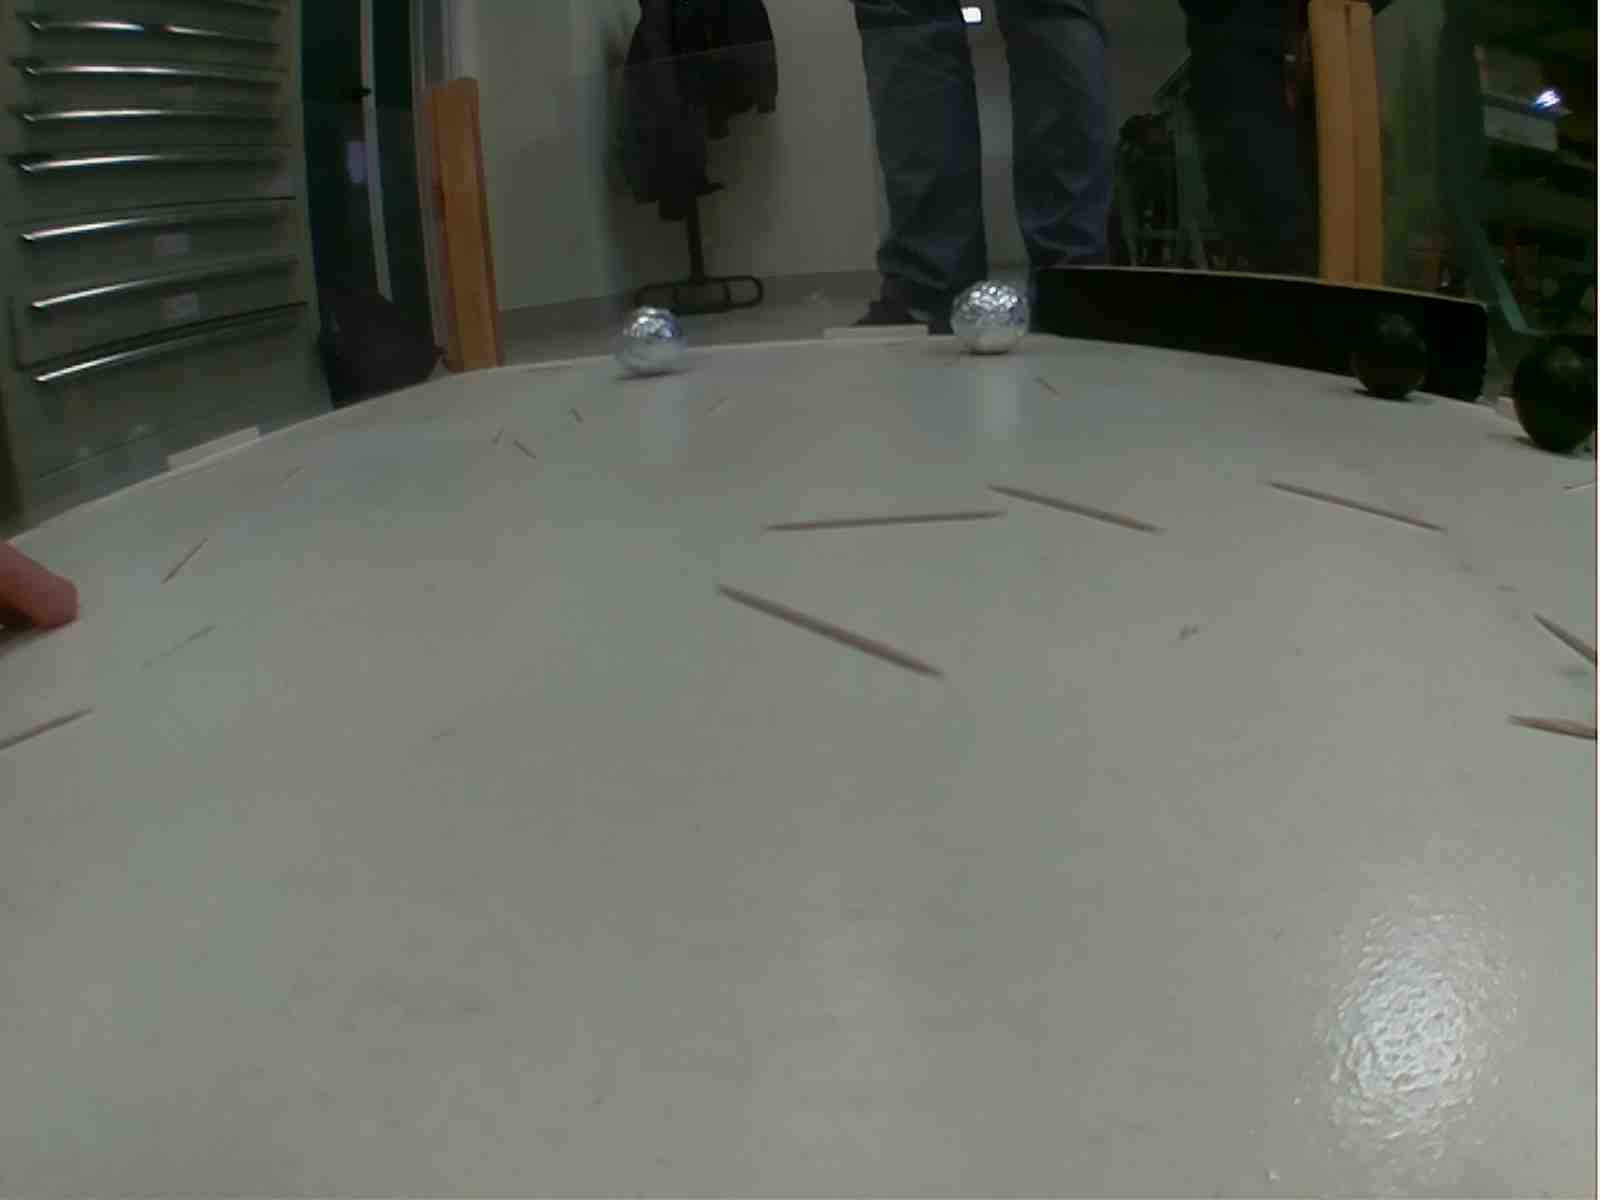bianca: (947, 279, 1036, 355), (616, 305, 687, 379)
nera: (1507, 345, 1600, 455), (1347, 311, 1429, 401)
